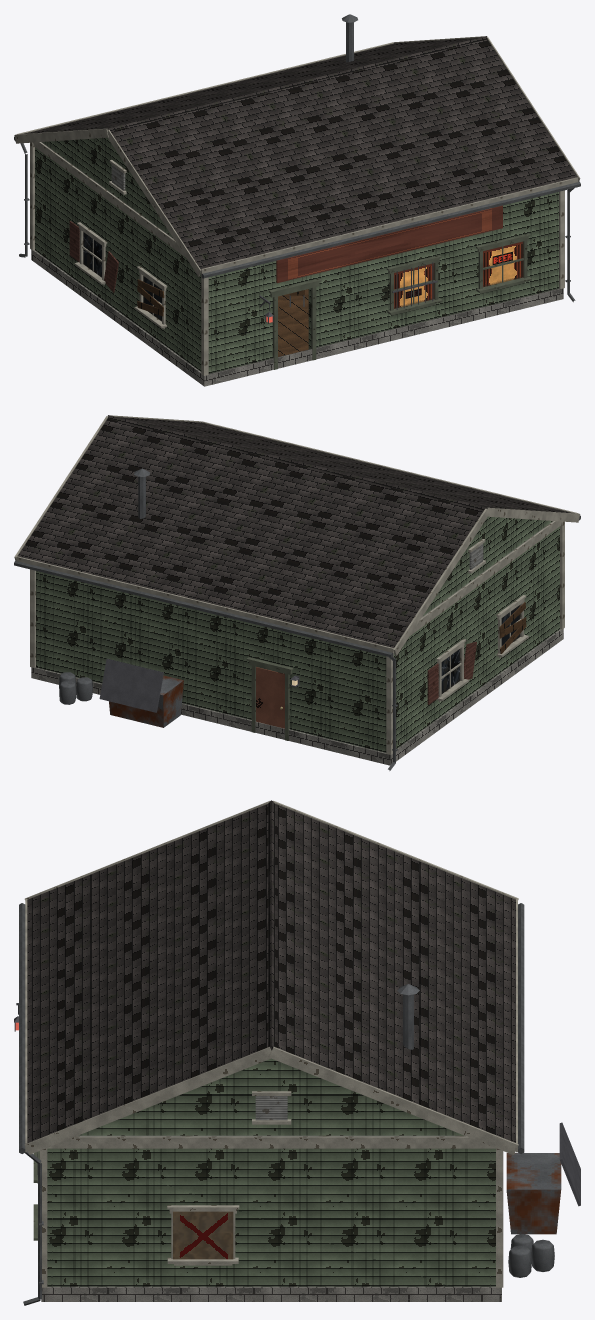
Rendered from bar.glb.
3 renders of one model, top to bottom at view 1: azimuth 30°, elevation 25°; view 2: azimuth 150°, elevation 25°; view 3: azimuth 270°, elevation 25°, orthographic. The views are drawn at different scales.
Visible parts, largest first — view 1: detail, shell-col; view 2: detail, shell-col; view 3: detail, shell-col.
Part boxes in pixels (x1,y1,x2,y2): detail: (14,14,580,386); shell-col: (35,142,558,373); detail: (14,415,580,770); shell-col: (36,521,559,752); detail: (14,800,580,1305); shell-col: (47,1135,495,1286).
Size of what is drawn, in the model's own units: 12.82 by 6.51 by 12.43.
38 materials, 38 textured.
